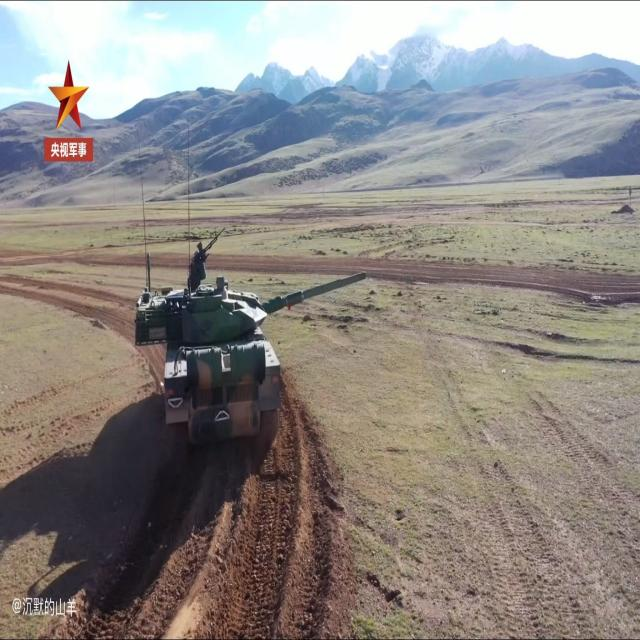tank: (134, 230, 377, 454)
